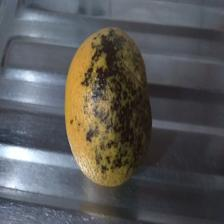Mango Semirotten: (60, 23, 156, 187)
